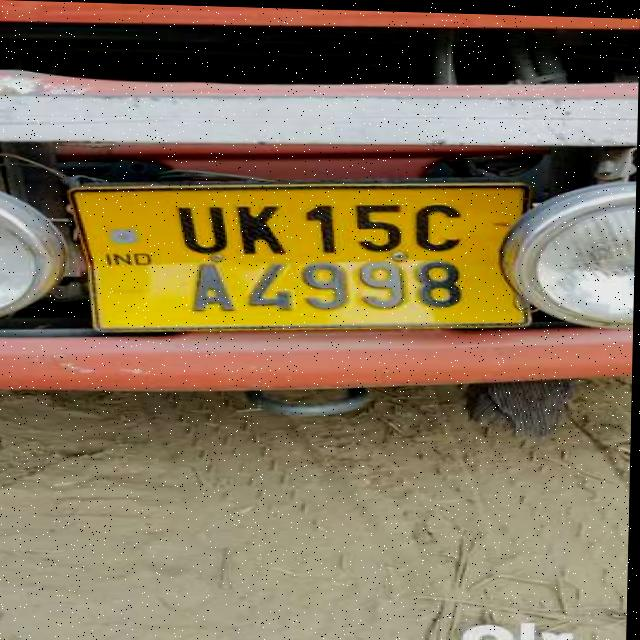plate: (67, 170, 535, 343)
